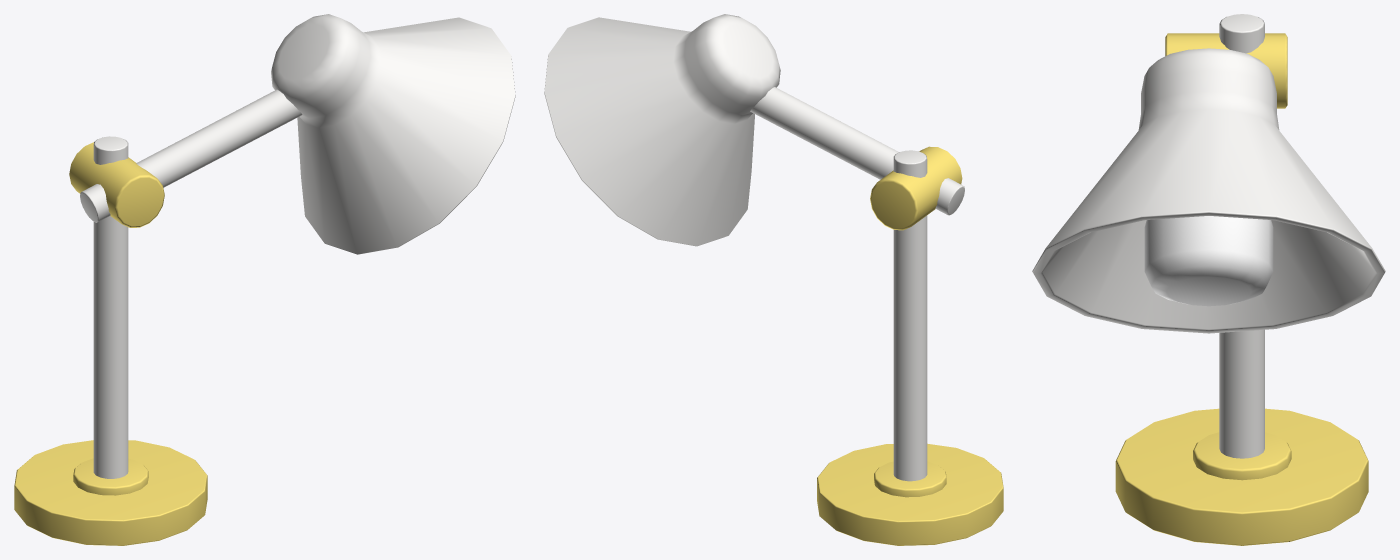
Rendered from Lamp_5.glb.
3 views of the same model, side by side, from view 1: azimuth 30°, elevation 25°; view 2: azimuth 150°, elevation 25°; view 3: azimuth 270°, elevation 25° (orthographic). The views are drawn at different scales.
Parts seen in each view (by area): view 1: Lamp_4; view 2: Lamp_4; view 3: Lamp_4.
Boxes of the visible parts, x1,y1,x2,y2 form: Lamp_4: (14,14,515,545); Lamp_4: (544,14,1003,545); Lamp_4: (1032,14,1385,545).
Bounding box in the file's own units: 0.7405 × 0.6945 × 0.3861.
Materials: 2 (1 with a texture image).
